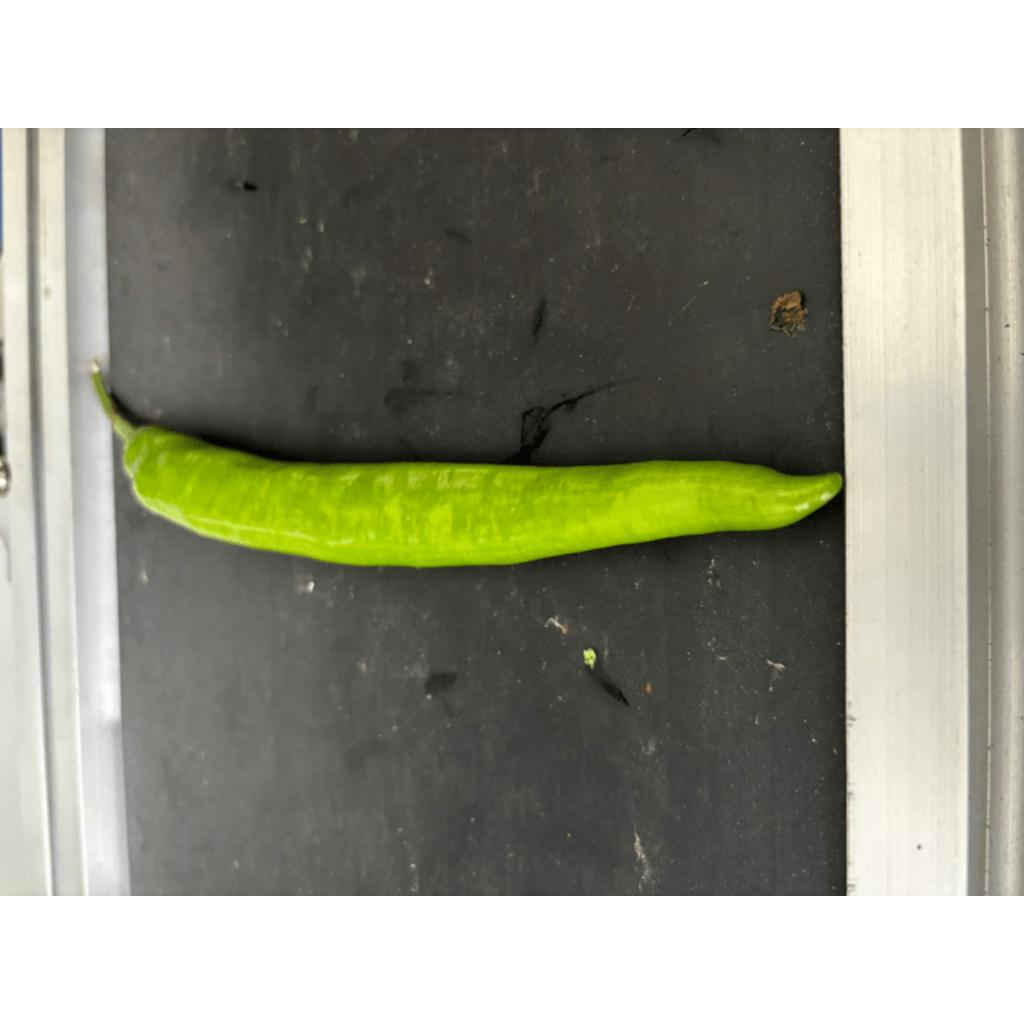chili: (117, 420, 847, 571)
